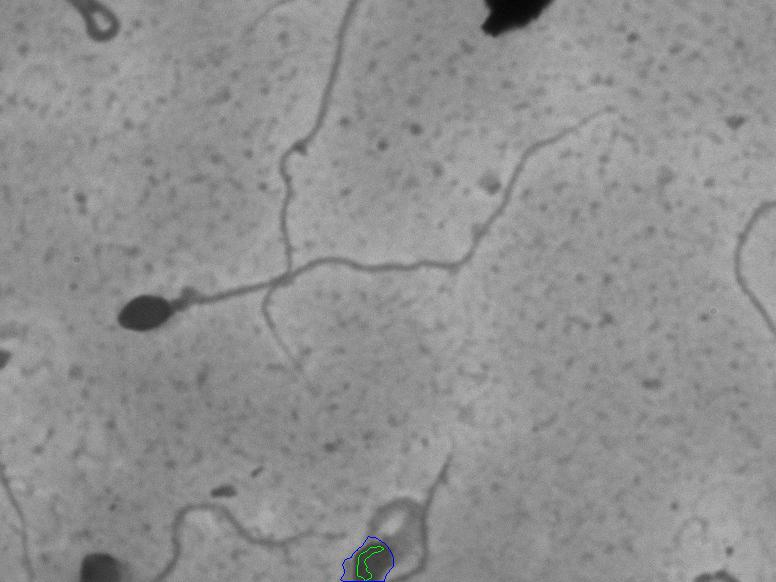Normal: (87, 93, 634, 346)
